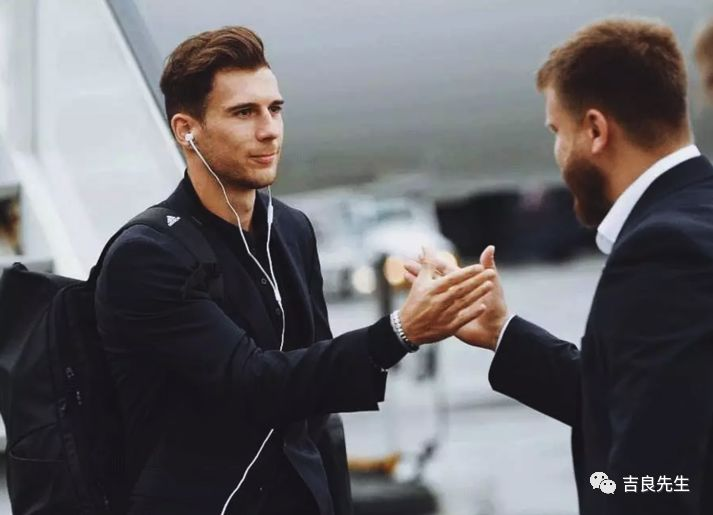handsup: (80, 22, 497, 508), (399, 8, 706, 507)
